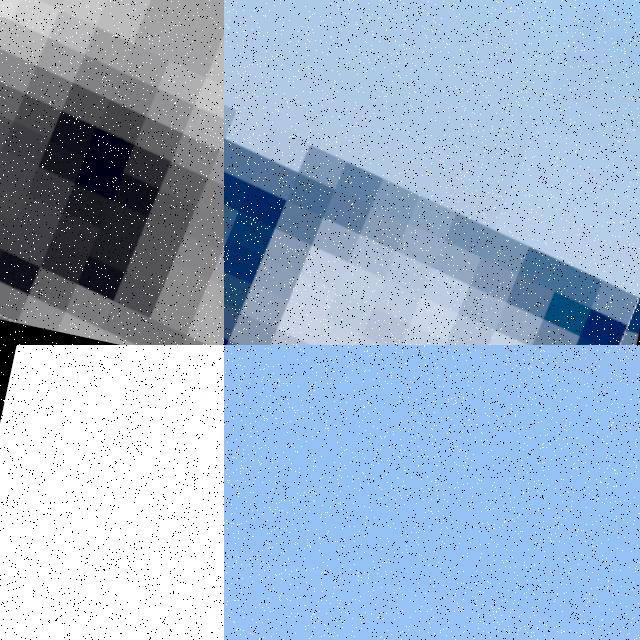0: (224, 0, 640, 345), (0, 0, 224, 345)
drone: (0, 345, 224, 640)
